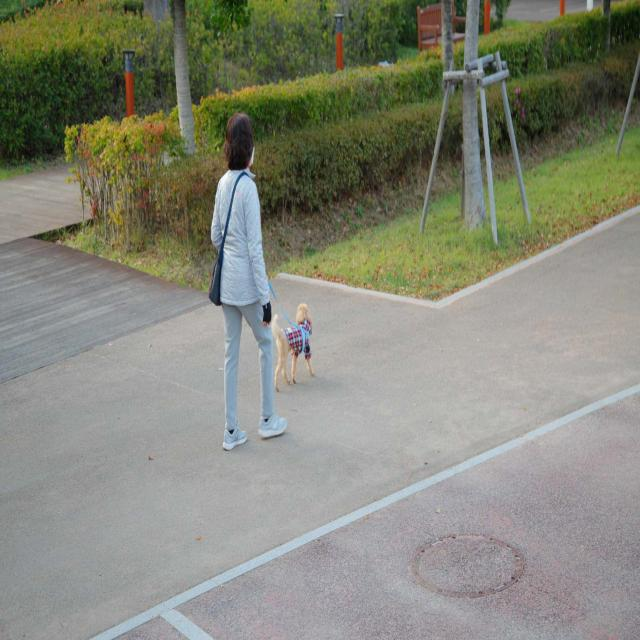Leashed_Dog: (245, 276, 314, 392)
